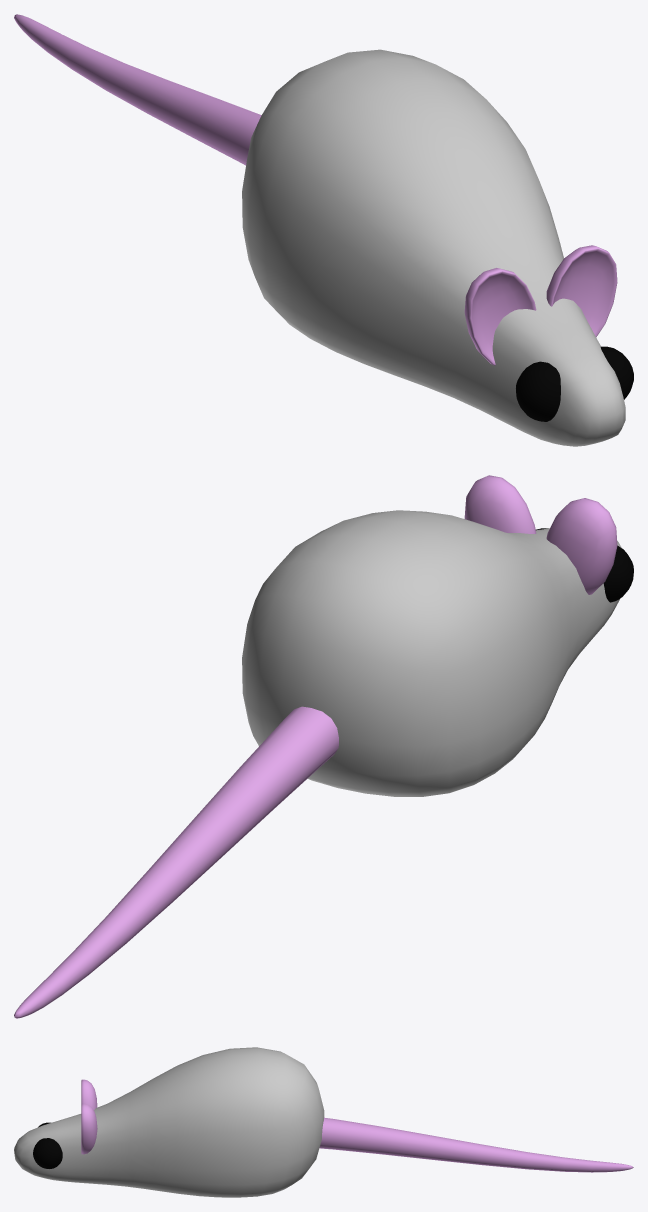
The model's file is Rat.fbx.
3 renders of one model, top to bottom at view 1: azimuth 30°, elevation 25°; view 2: azimuth 150°, elevation 25°; view 3: azimuth 270°, elevation 25°, orthographic. The views are drawn at different scales.
Visible parts, largest first — view 1: Rat, Rat Tail, Rat Ears, Rat Eyes; view 2: Rat, Rat Tail, Rat Ears, Rat Eyes; view 3: Rat, Rat Tail, Rat Ears, Rat Eyes.
Part boxes in pixels (x1,y1,x2,y2): Rat: (242, 49, 625, 446); Rat Tail: (14, 14, 261, 165); Rat Ears: (464, 245, 617, 365); Rat Eyes: (516, 346, 633, 421); Rat: (242, 510, 621, 796); Rat Tail: (14, 706, 338, 1018); Rat Ears: (464, 475, 617, 594); Rat Eyes: (536, 528, 633, 602); Rat: (14, 1047, 324, 1197); Rat Tail: (319, 1117, 633, 1172); Rat Ears: (81, 1079, 97, 1154); Rat Eyes: (33, 1122, 62, 1168).
Bounding box in the file's own units: 339 × 1453 × 315.
